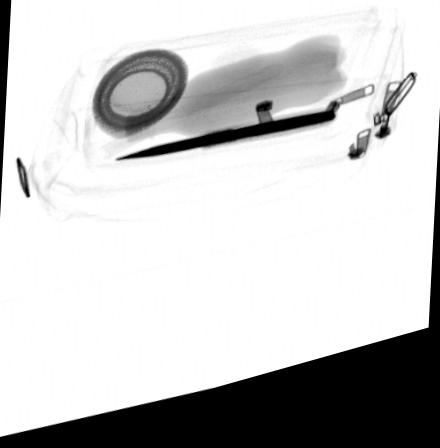Pliers: (114, 125, 338, 169)
